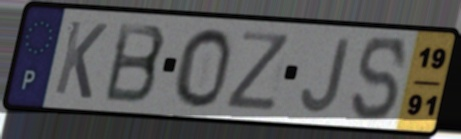B: (101, 19, 169, 106)
J: (298, 36, 354, 116)
K: (51, 17, 111, 102)
O: (172, 26, 234, 110)
S: (349, 34, 410, 124)
Z: (222, 29, 293, 114)
